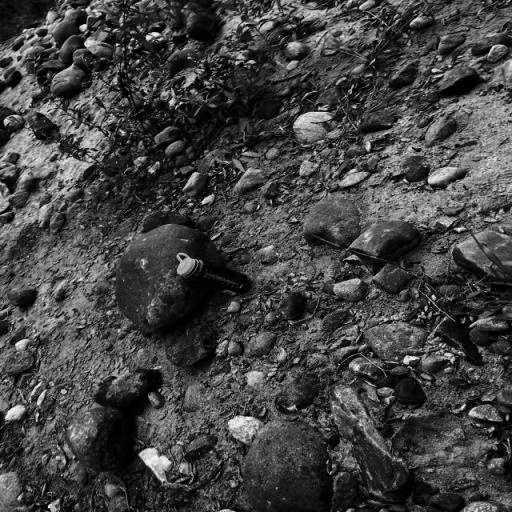bottle: (176, 253, 250, 296)
